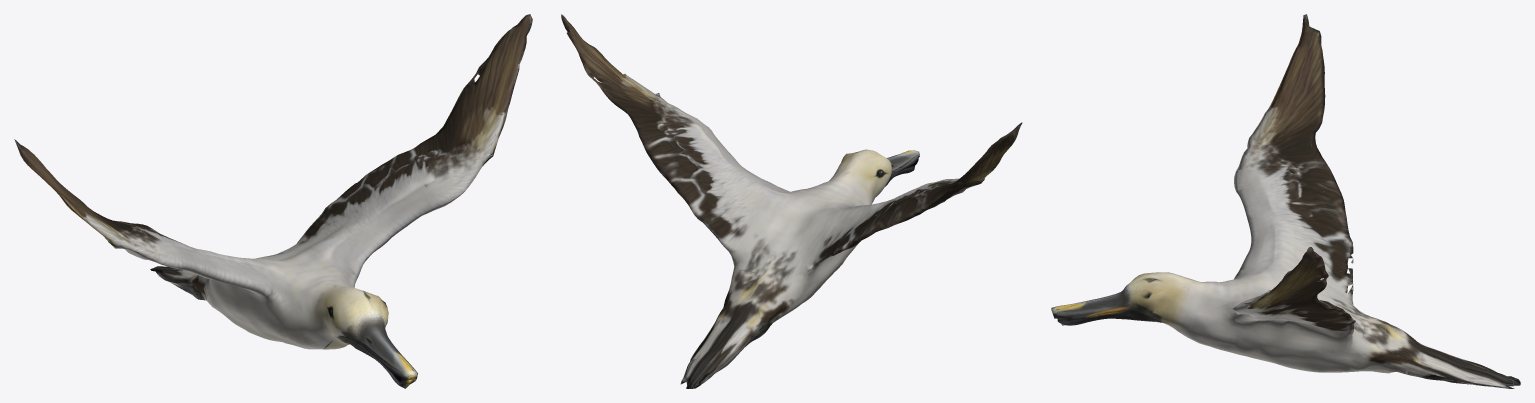
File: Gannet_in_Flight_0409064338_texture.glb
3 renders of one model, left to right at view 1: azimuth 30°, elevation 25°; view 2: azimuth 150°, elevation 25°; view 3: azimuth 270°, elevation 25°, orthographic. The views are drawn at different scales.
Size of the model in its own units: 1.74 by 0.8924 by 1.49.
1 material, 1 textured.
